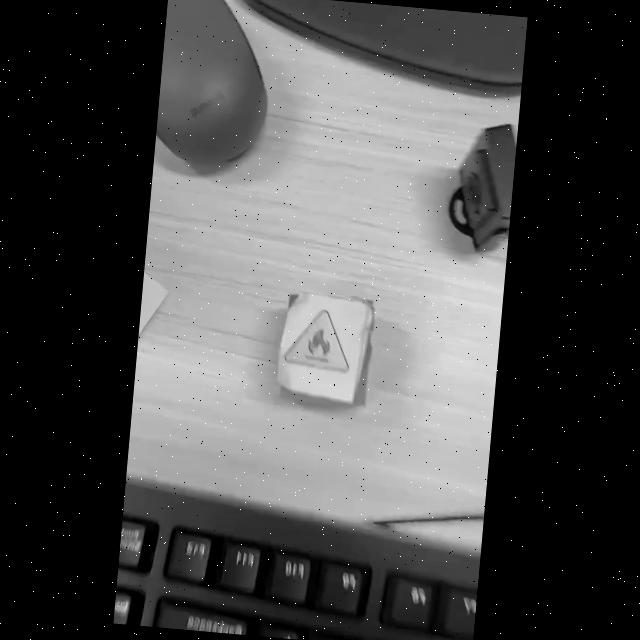Fire: (285, 310, 348, 372)
